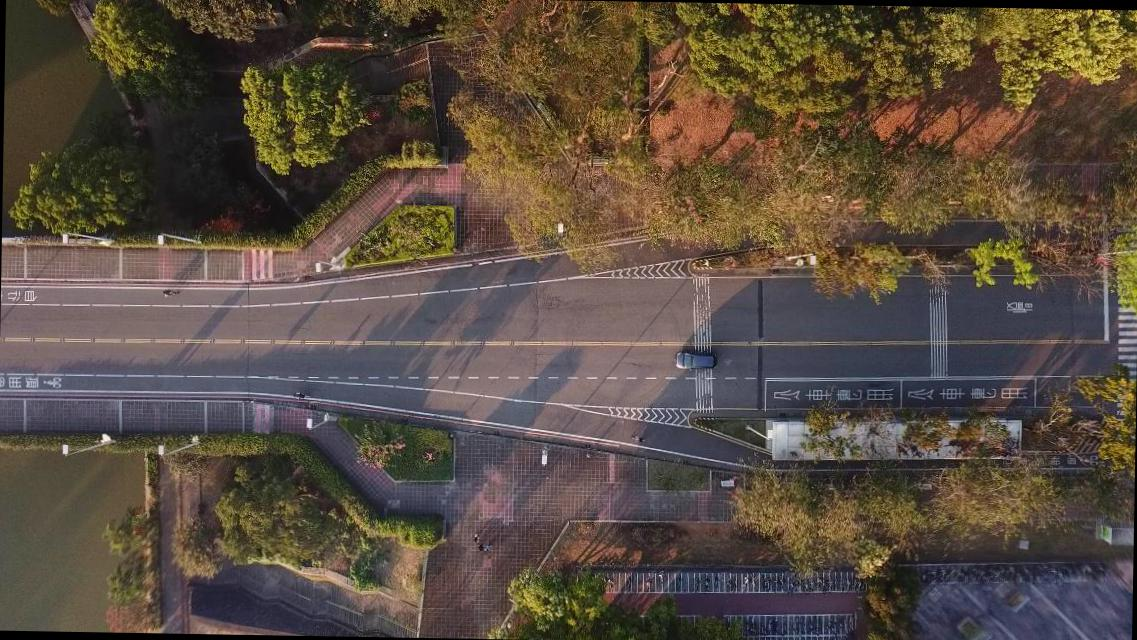vehicle: (676, 348, 718, 371)
